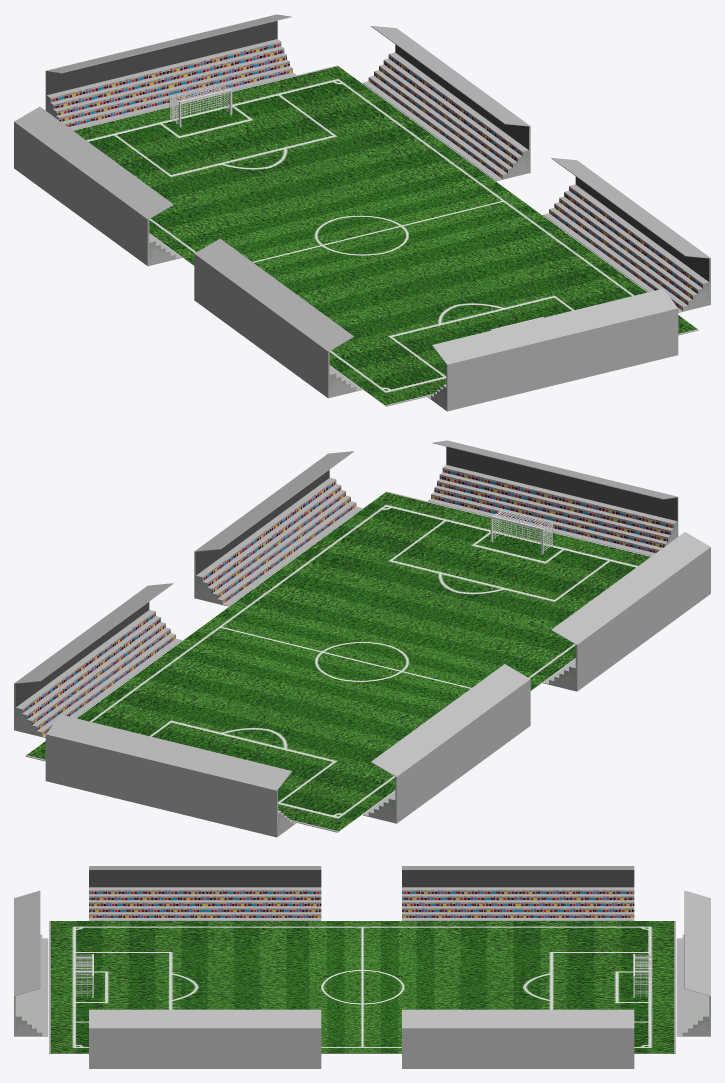
File: football_new.glb
3 renders of one model, top to bottom at view 1: azimuth 30°, elevation 25°; view 2: azimuth 150°, elevation 25°; view 3: azimuth 270°, elevation 25°, orthographic. The views are drawn at different scales.
Parts seen in each view (by area): view 1: Cube.017; view 2: Cube.017; view 3: Cube.017.
Boxes of the visible parts, box(x1,y1,x2,y2) form: Cube.017: box(14, 14, 710, 411); Cube.017: box(14, 440, 710, 837); Cube.017: box(14, 866, 710, 1068).
Bounding box in the file's own units: 31.71 × 4.4 × 57.61.
2 materials, 1 textured.
